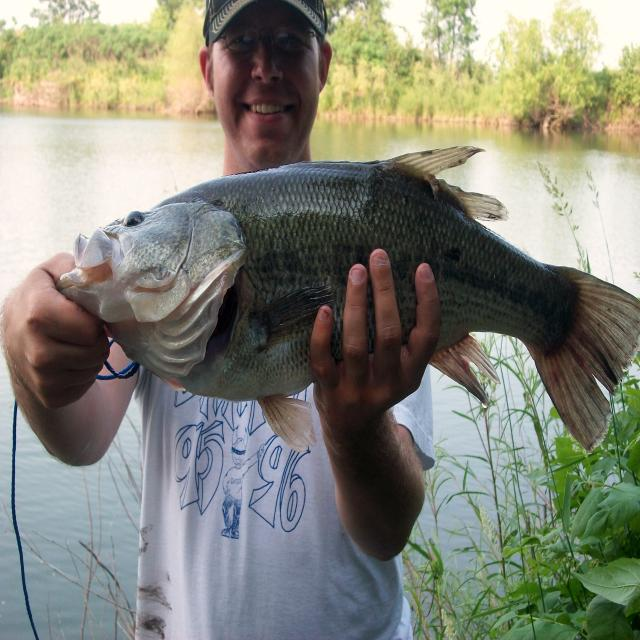Bass - Largemouth: (57, 147, 640, 451)
